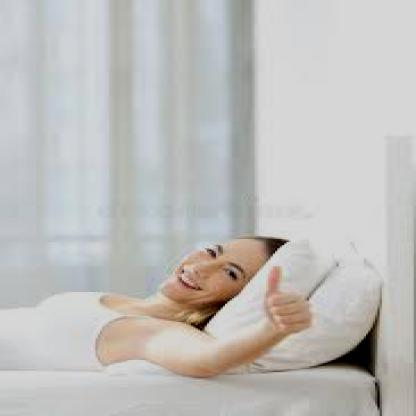Thumbs up: (265, 259, 322, 345)
